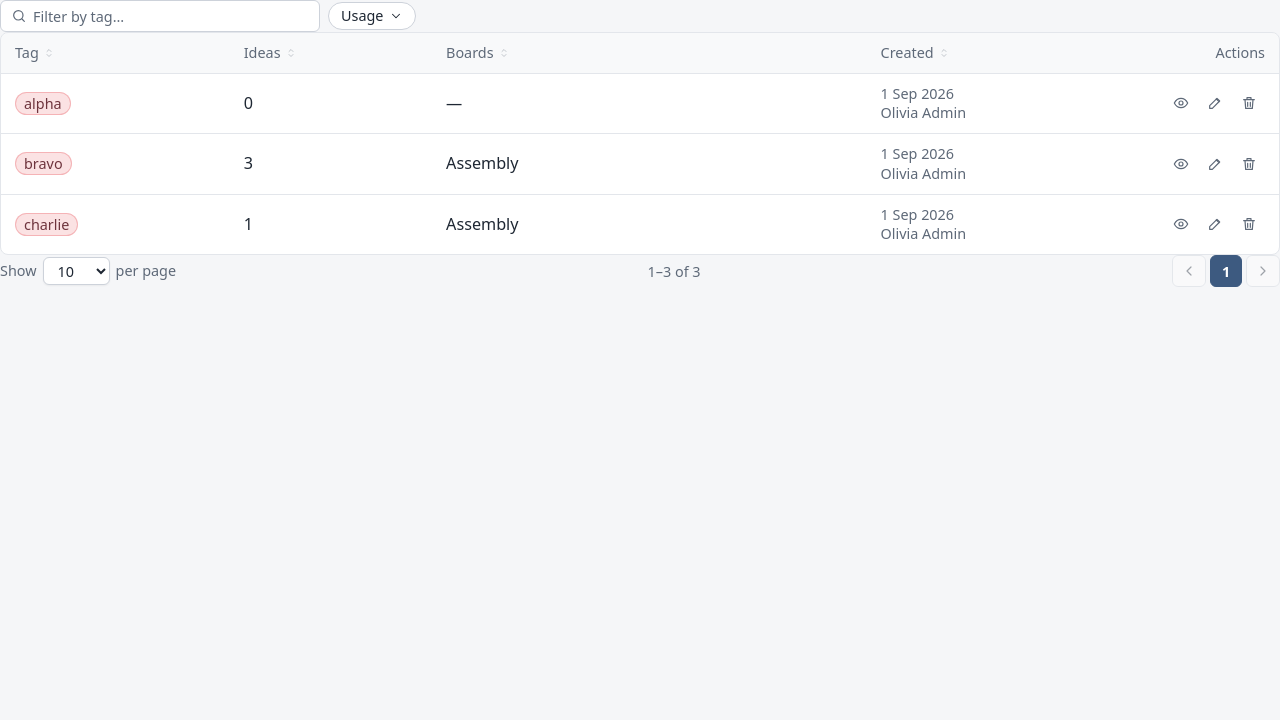
Test: Delete tag confirmation › says “0 ideas” for an unused tag
Click the button named "Delete alpha" at coordinates (1249, 103), box 1233,87 -> 1265,119
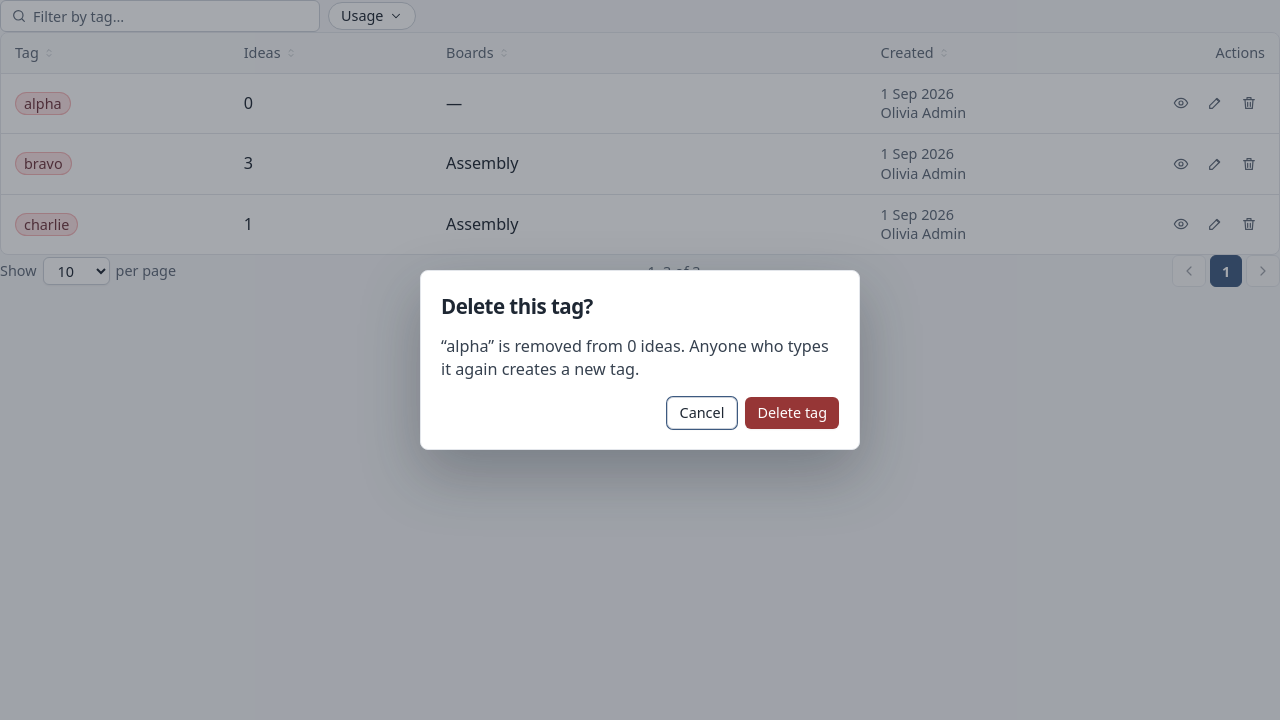
Now the dialog shows "is removed from 0 ideas.", box 441,335 -> 829,380
